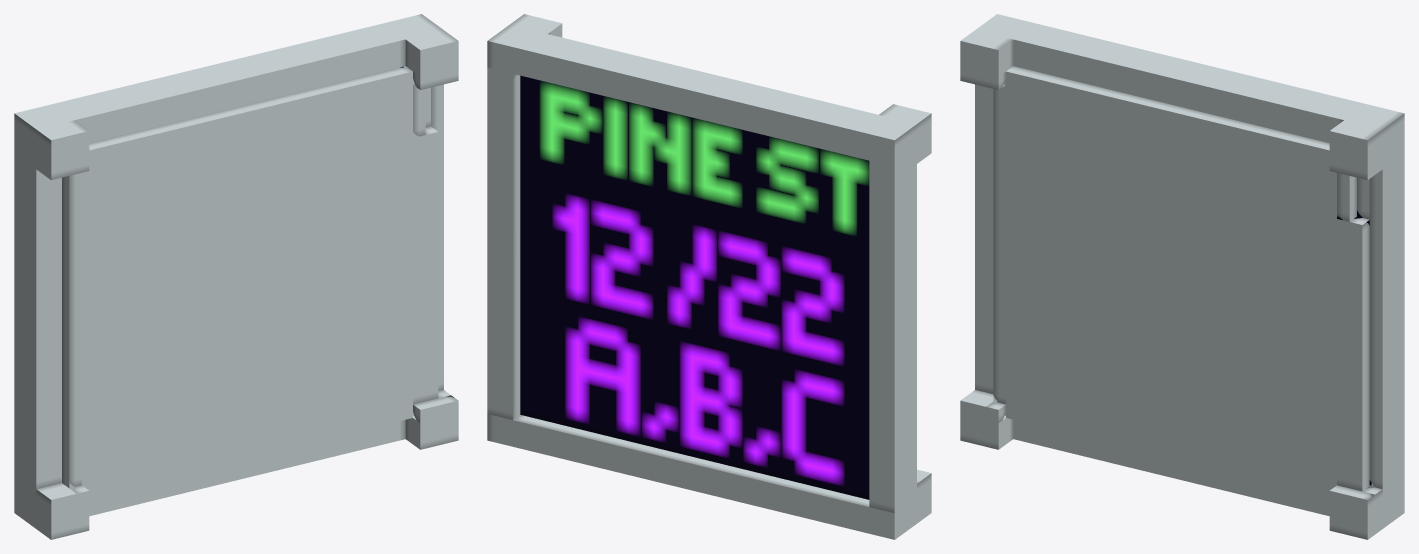
The model's file is neon_ulica.dae.
The picture shows the model from 3 angles, left to right: view 1: azimuth 30°, elevation 25°; view 2: azimuth 150°, elevation 25°; view 3: azimuth 330°, elevation 25°; orthographic projection.
Visible parts, largest first — view 1: Content(1); view 2: Content(1); view 3: Content(1).
Part boxes in pixels (x1,y1,x2,y2): Content(1): [14, 14, 458, 539]; Content(1): [487, 14, 931, 539]; Content(1): [960, 14, 1404, 539].
Bounding box in the file's own units: 32 × 30 × 5.
1 material, 1 textured.
